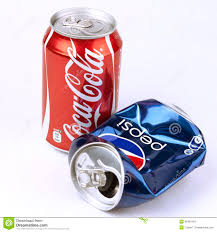can: (69, 96, 204, 219), (40, 5, 109, 152)
